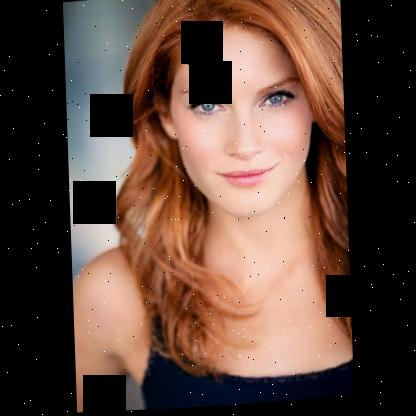Female: (152, 17, 314, 225)
